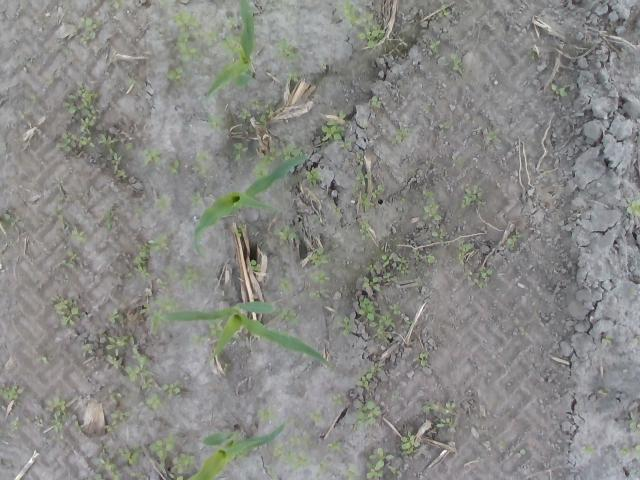Maize: (192, 154, 310, 262), (160, 301, 337, 372), (184, 421, 290, 480), (205, 0, 257, 100)
Weeds: (64, 85, 101, 134), (174, 12, 204, 60), (352, 170, 383, 210), (51, 294, 88, 326), (272, 444, 310, 472), (358, 11, 386, 49), (148, 432, 176, 470), (47, 396, 69, 442), (252, 146, 281, 180), (352, 400, 382, 430), (366, 448, 394, 480), (368, 312, 396, 344), (98, 441, 120, 480), (58, 132, 96, 152), (132, 242, 152, 279), (125, 364, 153, 390), (336, 0, 362, 28), (128, 332, 149, 366), (78, 17, 102, 46), (276, 38, 302, 64), (170, 452, 194, 480), (464, 267, 493, 290), (356, 364, 381, 390), (108, 147, 128, 179), (102, 332, 128, 356), (180, 267, 202, 292), (273, 224, 297, 246), (118, 442, 142, 464), (357, 297, 378, 322), (400, 430, 420, 456), (460, 185, 482, 208), (220, 34, 242, 57), (322, 119, 344, 141), (155, 292, 179, 312), (273, 307, 299, 325), (56, 250, 80, 268), (422, 401, 454, 414), (457, 238, 473, 264), (142, 148, 162, 168), (52, 177, 68, 202), (102, 203, 116, 231), (0, 384, 23, 401), (304, 166, 324, 185), (391, 126, 412, 144), (278, 144, 300, 161), (162, 379, 181, 398), (308, 248, 328, 266), (166, 65, 183, 86), (423, 202, 442, 220), (150, 308, 164, 332), (362, 275, 381, 292), (209, 317, 223, 340), (149, 235, 169, 251), (0, 213, 15, 234), (110, 408, 132, 422), (108, 308, 126, 325), (256, 406, 276, 421), (338, 316, 353, 336), (146, 394, 164, 410), (71, 226, 87, 244), (232, 142, 248, 160), (506, 234, 524, 250), (359, 220, 372, 242), (207, 114, 222, 133), (625, 197, 640, 216), (52, 208, 66, 228), (316, 460, 331, 478), (396, 257, 411, 275), (203, 28, 218, 46), (341, 466, 360, 480), (312, 270, 331, 284), (98, 134, 120, 146), (436, 417, 456, 430), (450, 53, 463, 73), (628, 411, 640, 431), (156, 195, 170, 212), (280, 277, 294, 294), (264, 99, 278, 116), (108, 386, 121, 404), (413, 352, 429, 366), (432, 230, 446, 246), (190, 191, 203, 208), (290, 434, 308, 446), (80, 343, 94, 358), (621, 445, 640, 456), (106, 354, 119, 370), (309, 410, 326, 422), (484, 128, 501, 140), (551, 84, 568, 96), (166, 160, 180, 174), (328, 440, 344, 452), (190, 334, 208, 344), (308, 289, 327, 298), (438, 123, 451, 136), (267, 466, 279, 480), (196, 148, 208, 162), (140, 302, 152, 315), (235, 224, 248, 236), (239, 107, 251, 120), (226, 15, 238, 28), (332, 392, 343, 406), (382, 252, 393, 266), (255, 114, 269, 125), (164, 268, 179, 278), (382, 272, 397, 282), (438, 4, 450, 16), (388, 466, 402, 476), (332, 204, 342, 218), (430, 40, 440, 54), (104, 421, 118, 431), (248, 260, 260, 271), (389, 304, 400, 316), (341, 139, 353, 150), (286, 71, 298, 82), (74, 421, 84, 434), (194, 166, 207, 176), (516, 448, 528, 458), (424, 254, 436, 264), (371, 96, 381, 108), (450, 154, 462, 164), (310, 214, 321, 224), (31, 95, 43, 104), (88, 473, 103, 480), (601, 336, 614, 344), (132, 206, 142, 216), (584, 444, 594, 454), (157, 280, 168, 289), (366, 264, 377, 273), (474, 0, 486, 8), (37, 356, 49, 364), (422, 190, 434, 198), (356, 154, 364, 166), (130, 472, 146, 478), (250, 98, 260, 107), (11, 421, 19, 432), (597, 388, 611, 394), (125, 142, 135, 150), (338, 109, 346, 119), (404, 318, 415, 325), (114, 0, 122, 9), (528, 51, 536, 60), (422, 105, 430, 114), (415, 276, 422, 286), (413, 250, 419, 260), (223, 362, 229, 372), (128, 77, 135, 84), (160, 0, 169, 5), (392, 394, 398, 401), (64, 4, 70, 11), (318, 61, 326, 66), (400, 197, 406, 203), (630, 290, 636, 296)
